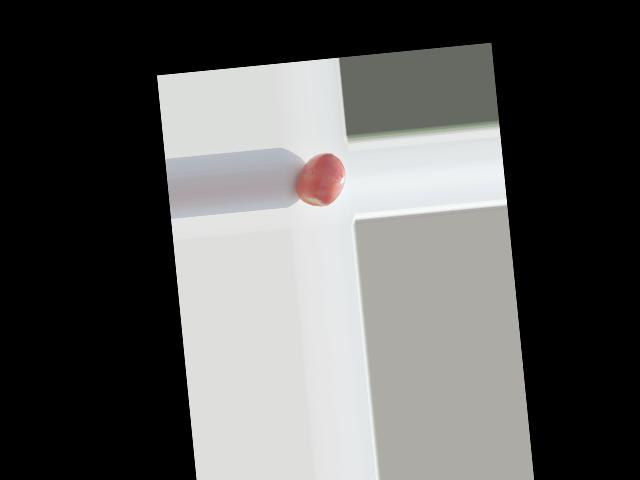tomato: (293, 151, 348, 208)
